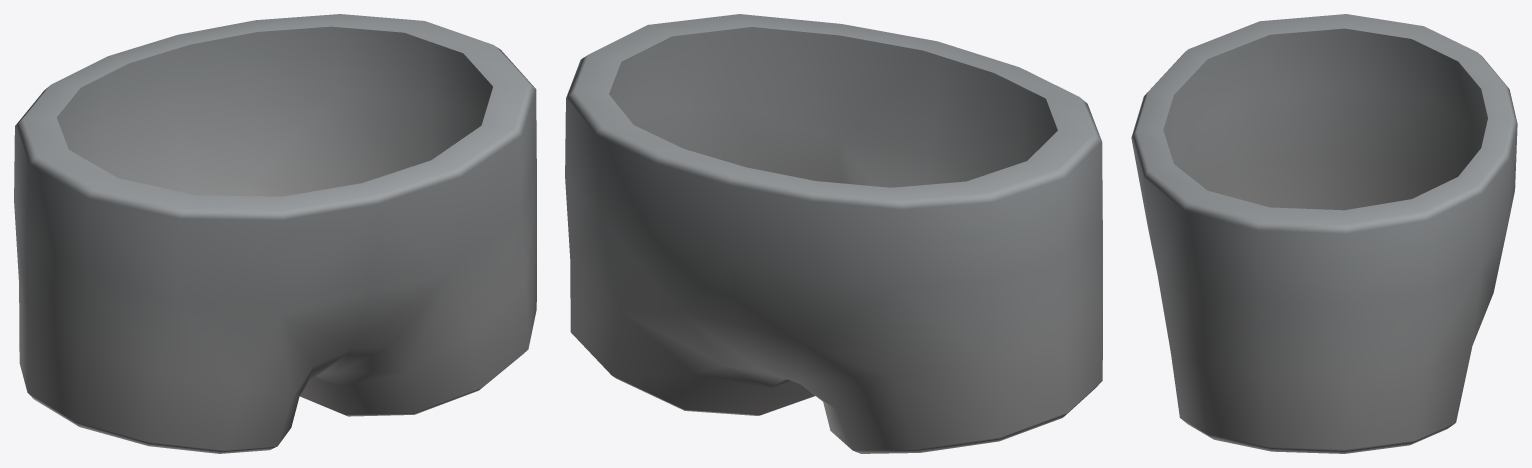
The model's file is shorts_003.glb.
3 views of the same model, side by side, from view 1: azimuth 30°, elevation 25°; view 2: azimuth 150°, elevation 25°; view 3: azimuth 270°, elevation 25° (orthographic). The views are drawn at different scales.
Visible parts, largest first — view 1: Shorts_003; view 2: Shorts_003; view 3: Shorts_003.
Part boxes in pixels (box(x1,y1,x2,y2)): Shorts_003: box(14, 14, 536, 453); Shorts_003: box(565, 14, 1102, 453); Shorts_003: box(1131, 14, 1517, 453).
Size of the model in its own units: 0.3815 by 0.2246 by 0.2845.
1 material, 1 textured.
